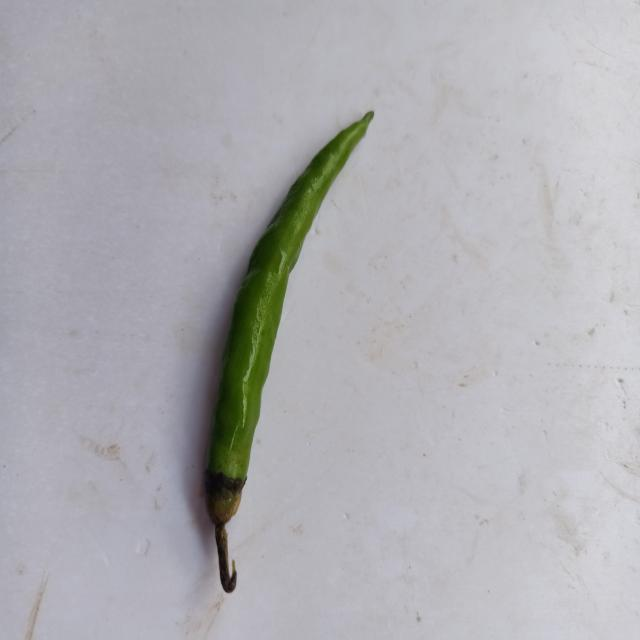Green Chilly: (205, 111, 374, 593)
